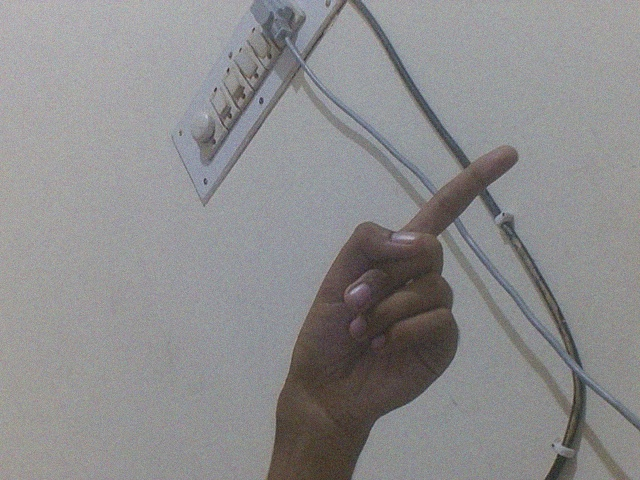hand: (282, 136, 523, 440)
